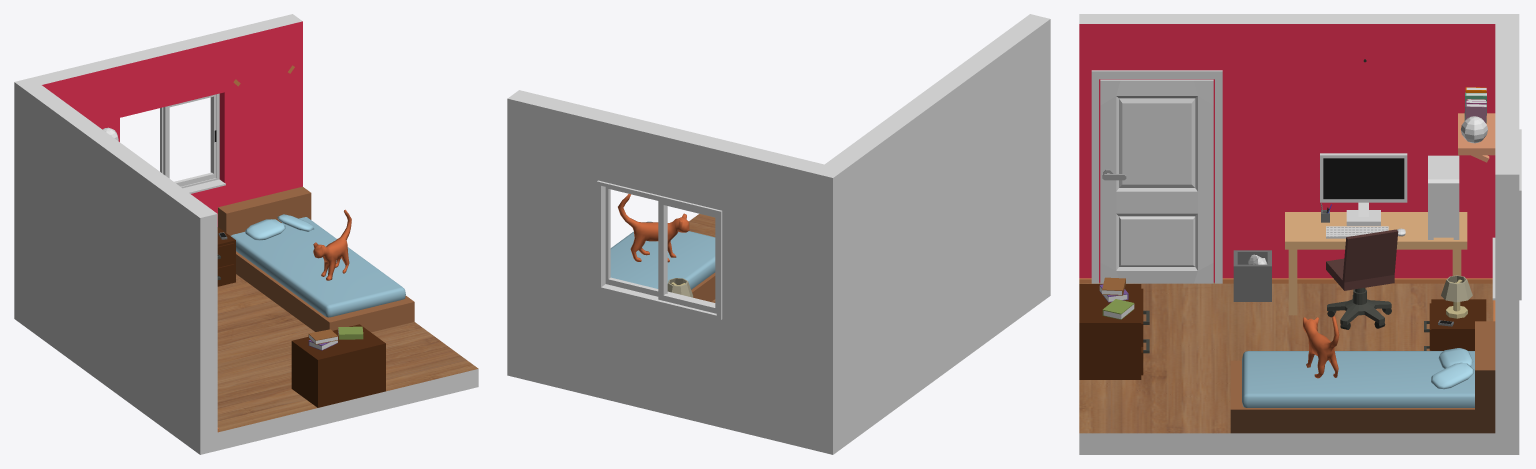
File: room.glb
The picture shows the model from 3 angles, left to right: view 1: azimuth 30°, elevation 25°; view 2: azimuth 150°, elevation 25°; view 3: azimuth 270°, elevation 25°; orthographic projection. The views are drawn at different scales.
Visible parts, largest first — view 1: Cube.002; view 2: Cube.002; view 3: Cube.002.
Part boxes in pixels (bbox=[...]): Cube.002: bbox=[14, 14, 478, 454]; Cube.002: bbox=[507, 14, 1050, 454]; Cube.002: bbox=[1079, 14, 1521, 454].
Size of the model in its own units: 320 by 260 by 372.
Materials: 3 (2 with a texture image).
